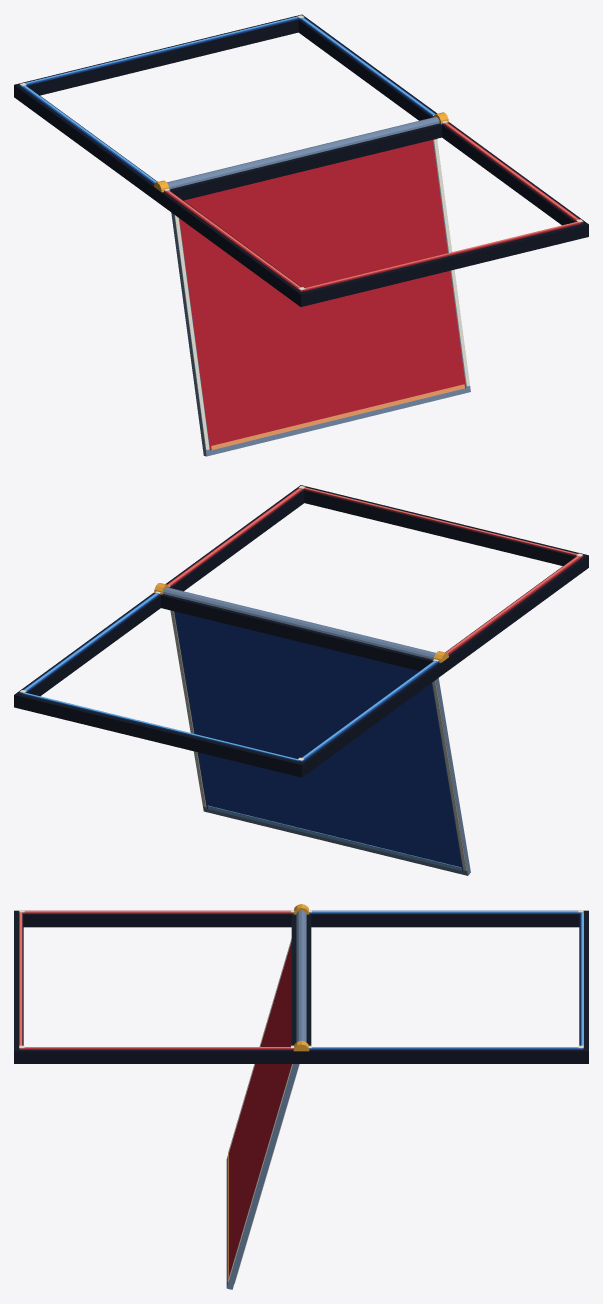
Rendered from jump_flip_pair_flip_14.obj.
3 renders of one model, top to bottom at view 1: azimuth 30°, elevation 25°; view 2: azimuth 150°, elevation 25°; view 3: azimuth 270°, elevation 25°, orthographic.
Parts seen in each view (by area): view 1: red_bottom, red_end_shell, red_side_shell, blue_side_shell, blue_end_shell, reversible_leaf, hinge_axle, red_side_trim, red_border, blue_border, blue_rim_light, red_rim_light (+1 smaller); view 2: blue_top, blue_end_shell, blue_side_shell, red_side_shell, red_end_shell, reversible_leaf, hinge_axle, blue_rim_light, red_rim_light, blue_side_trim, blue_border, red_border (+1 smaller); view 3: blue_side_shell, red_side_shell, red_bottom, blue_end_shell, red_end_shell, reversible_leaf, blue_border, red_border, blue_rim_light, red_rim_light, hinge_axle, red_side_trim.
Part boxes in pixels (x1,y1,x2,y2): red_bottom: (179,140,465,450); red_end_shell: (157,122,588,306); red_side_shell: (157,123,588,306); blue_side_shell: (14,14,436,201); blue_end_shell: (14,15,305,200); reversible_leaf: (171,139,470,456); hinge_axle: (167,116,439,189); red_side_trim: (174,139,469,449); red_border: (164,122,583,291); blue_border: (19,17,435,184); blue_rim_light: (23,16,434,182); red_rim_light: (166,123,578,289); blue_top: (174,611,462,870); blue_end_shell: (14,593,444,777); blue_side_shell: (14,593,445,777); red_side_shell: (165,485,588,670); red_end_shell: (298,485,588,669); reversible_leaf: (174,611,470,875); hinge_axle: (163,587,435,659); blue_rim_light: (23,593,436,760); red_rim_light: (168,487,579,653); blue_side_trim: (170,610,466,870); blue_border: (19,593,438,762); red_border: (167,488,583,654); blue_side_shell: (301,910,588,1063); red_side_shell: (14,910,301,1063); red_bottom: (229,941,291,1276); blue_end_shell: (301,910,588,1063); red_end_shell: (14,911,301,1063); reversible_leaf: (226,1064,299,1289); blue_border: (309,910,583,1049); red_border: (19,910,293,1049); blue_rim_light: (312,911,583,1048); red_rim_light: (20,911,290,1048); hinge_axle: (296,910,306,1042); red_side_trim: (228,938,292,1282).
Size of the model in its own units: 11.6 by 9.64 by 20.
